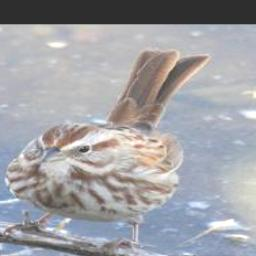Sparrow: (0, 46, 214, 256)
